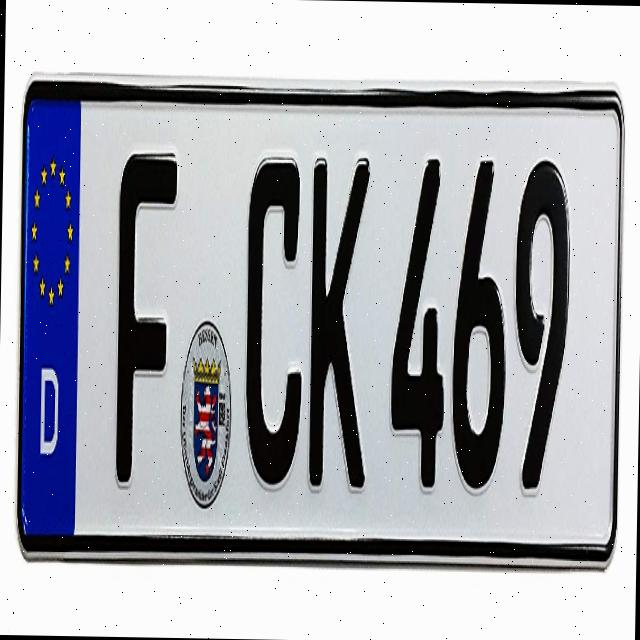Allemagne: (17, 94, 84, 542)
EU: (16, 85, 626, 574)
